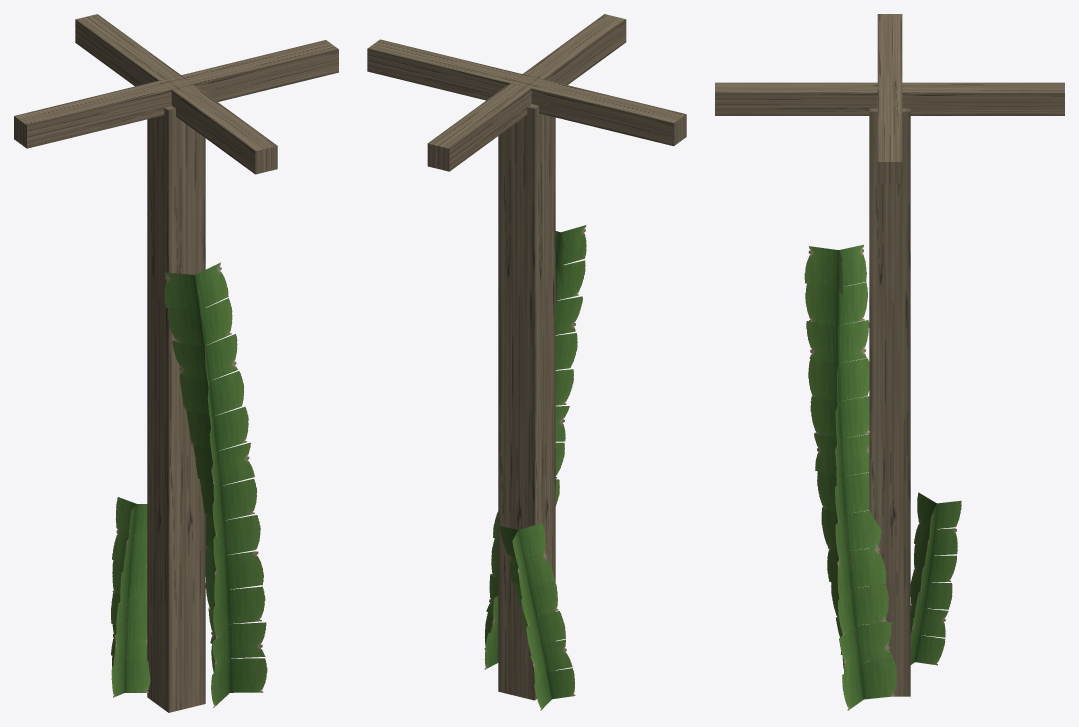
The model's file is dragonfruit_2.obj.
The picture shows the model from 3 angles, left to right: view 1: azimuth 30°, elevation 25°; view 2: azimuth 150°, elevation 25°; view 3: azimuth 270°, elevation 25°; orthographic projection. The views are drawn at different scales.
Parts seen in each view (by area): view 1: dragonfruit; view 2: dragonfruit; view 3: dragonfruit.
Boxes of the visible parts, x1,y1,x2,y2 form: dragonfruit: (14, 14, 338, 712); dragonfruit: (367, 14, 686, 710); dragonfruit: (715, 14, 1064, 710).
Bounding box in the file's own units: 0.84 × 1.59 × 0.84.
